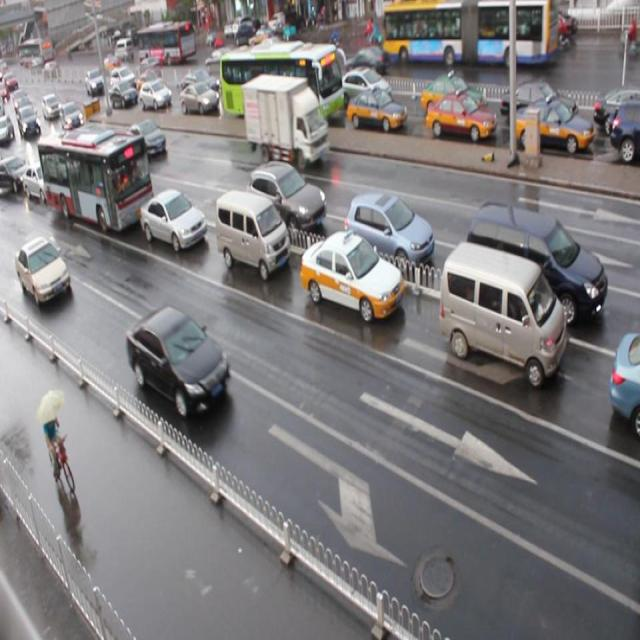bus: (243, 74, 329, 170)
car: (125, 306, 232, 418), (299, 228, 402, 322), (344, 193, 434, 275), (246, 160, 327, 237), (514, 99, 594, 159), (138, 187, 206, 252), (14, 236, 70, 306), (425, 92, 496, 143), (501, 82, 575, 128), (608, 331, 640, 435), (419, 76, 485, 121), (345, 86, 406, 134), (333, 66, 392, 111), (590, 92, 640, 133), (608, 99, 640, 160), (124, 120, 167, 162), (21, 158, 60, 203), (180, 83, 219, 114), (1, 154, 32, 192), (227, 69, 260, 103), (139, 80, 172, 112), (181, 69, 220, 96), (63, 130, 94, 163), (111, 81, 135, 110), (137, 69, 162, 92)
truck: (465, 198, 607, 332), (438, 240, 566, 388), (213, 187, 289, 280)
van: (37, 126, 154, 235), (216, 42, 339, 124)
